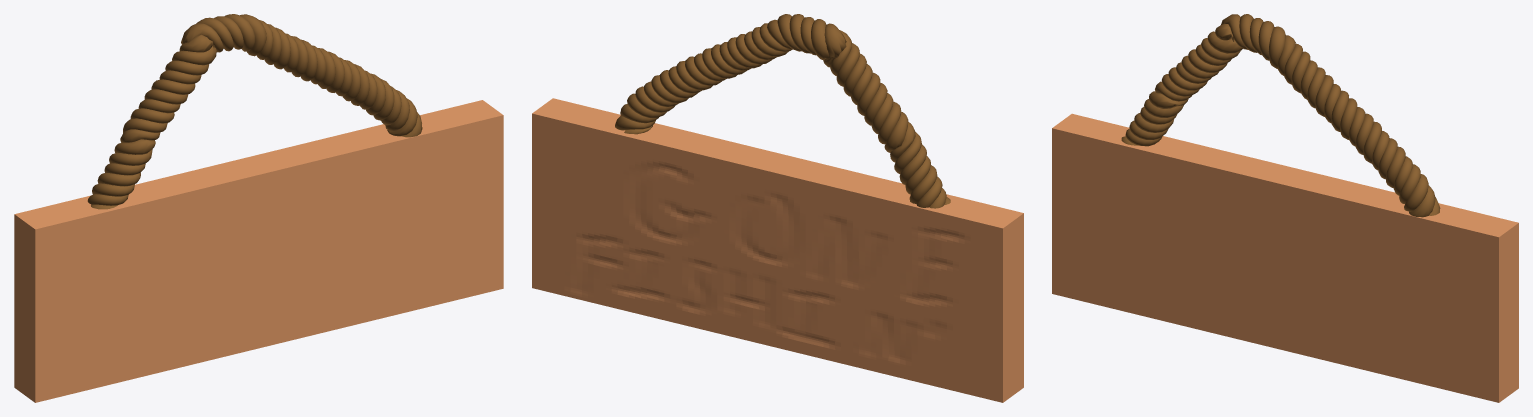
The model's file is Sign.fbx.
3 renders of one model, left to right at view 1: azimuth 30°, elevation 25°; view 2: azimuth 150°, elevation 25°; view 3: azimuth 330°, elevation 25°, orthographic. The views are drawn at different scales.
Parts seen in each view (by area): view 1: Cube, Circle; view 2: Cube, Circle; view 3: Cube, Circle.
Part boxes in pixels (box(x1,y1,x2,y2)): Cube: box(14, 100, 503, 402); Circle: box(87, 14, 422, 209); Cube: box(532, 98, 1023, 402); Circle: box(615, 14, 950, 208); Cube: box(1052, 113, 1518, 402); Circle: box(1121, 14, 1440, 217).
Bounding box in the file's own units: 7774 × 5203 × 695.
